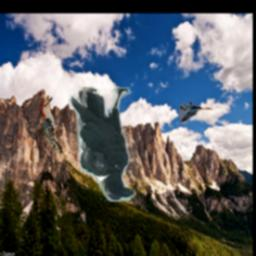Crow: (68, 87, 136, 202), (180, 103, 214, 123)
Woodpecker: (41, 97, 63, 154)
